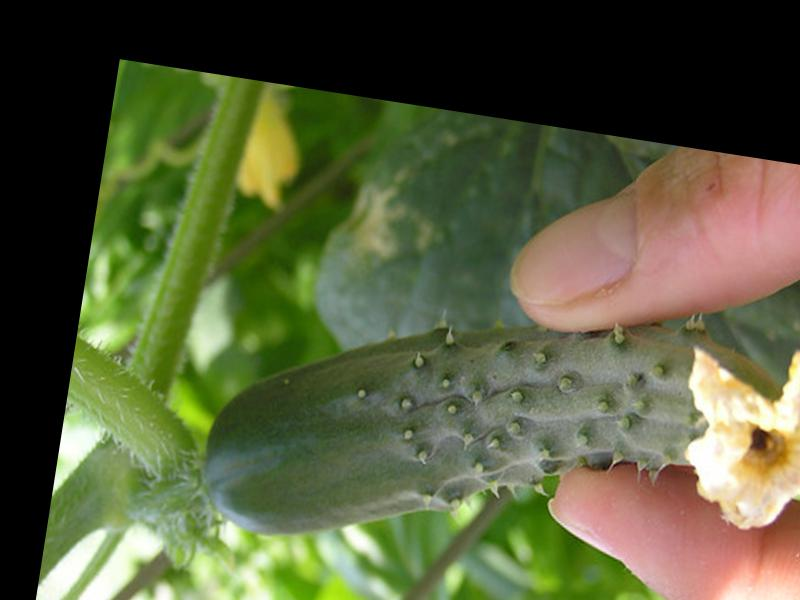Cucumber: (192, 256, 800, 600)
